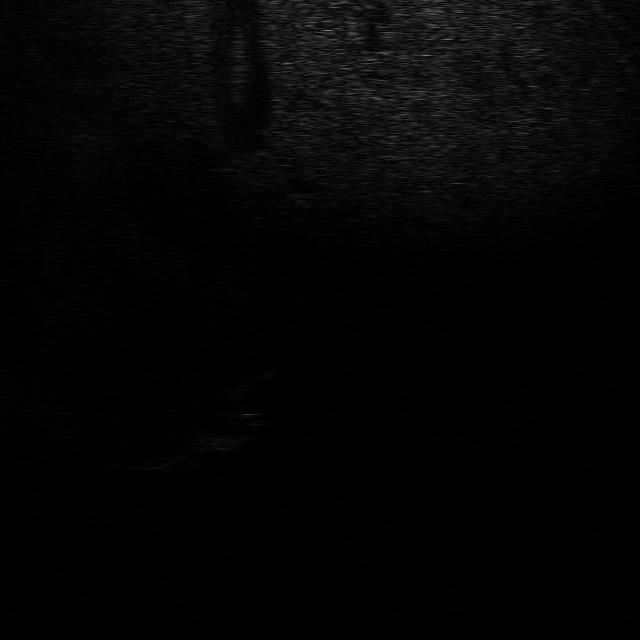ball: (216, 362, 282, 397)
square cage: (122, 444, 206, 476)
tyre: (191, 408, 264, 452)
